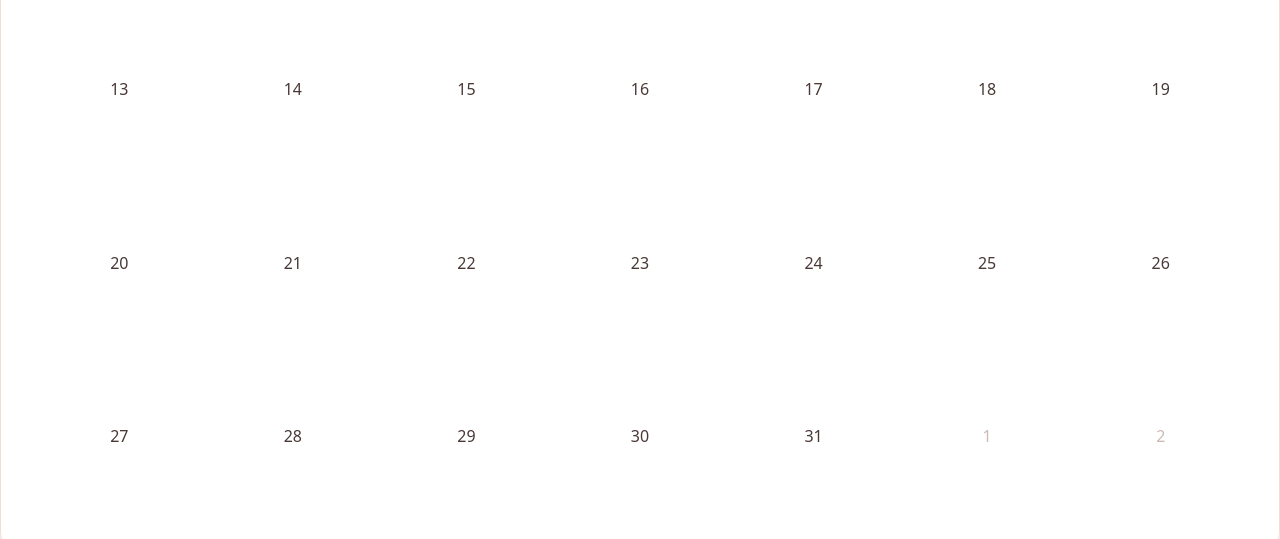
saves the current partner availability from the day panel
(page scrolled)
Click the button named "7月25日".
click(987, 264)  # box [903,179,1071,348]
(page scrolled)
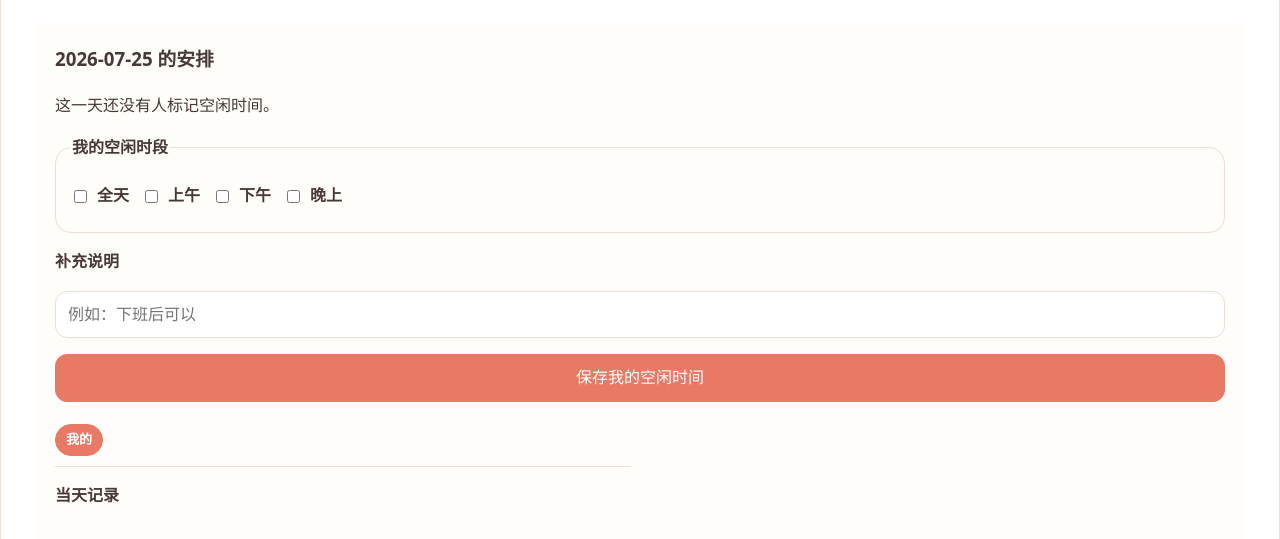
Click the checkbox labelled "晚上".
click(294, 196)  # box [287,190,300,203]
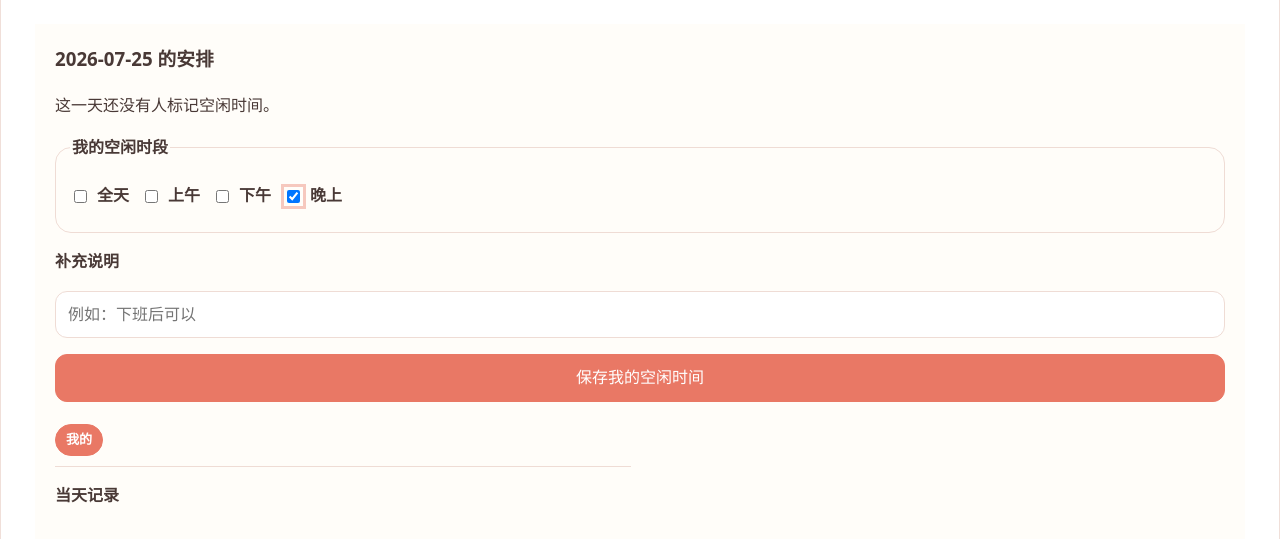
Click the button "保存我的空闲时间".
click(640, 378)  # box [55,354,1225,402]
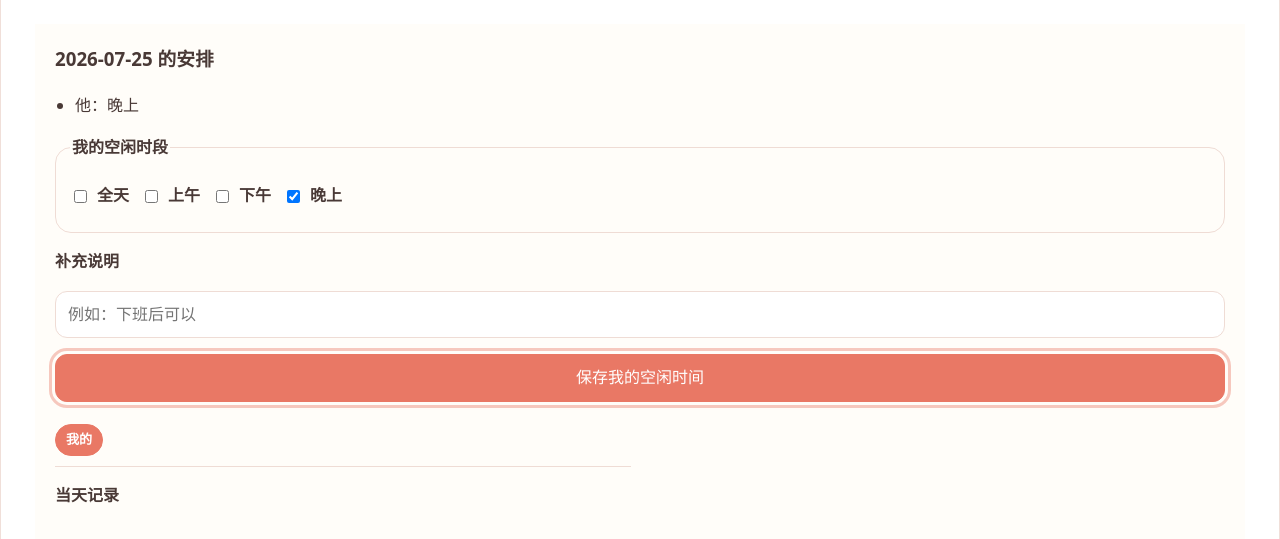
Result: the list item "他：晚上" is shown at [75,94,139,116]
